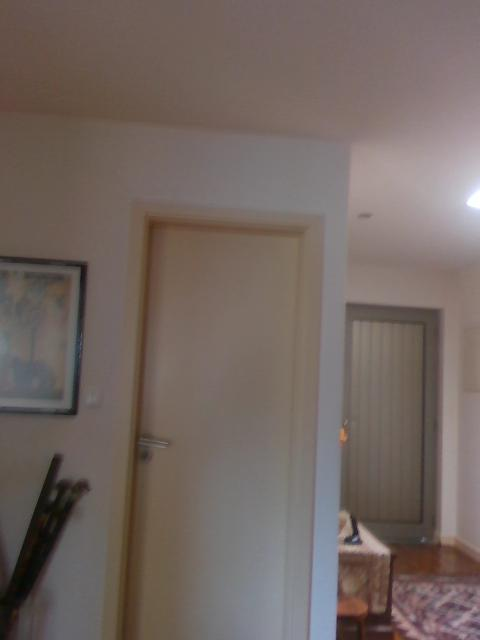closed_door: (97, 197, 327, 639)
